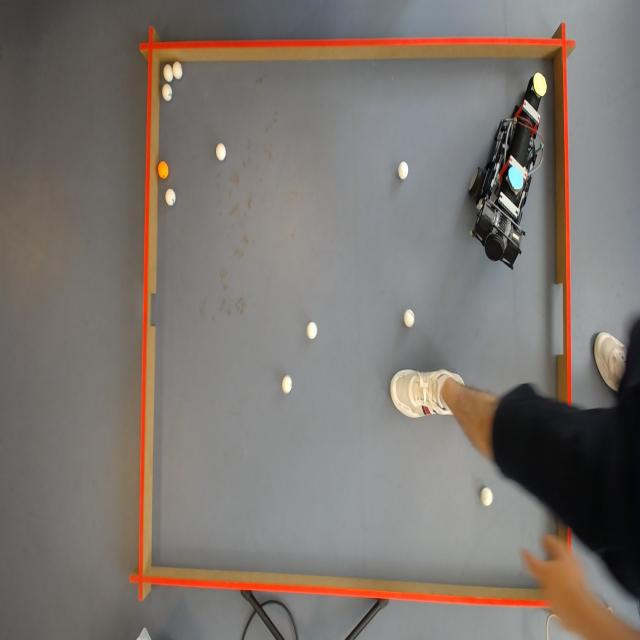orange: (158, 160, 170, 179)
robot: (472, 59, 542, 273)
robot-front: (532, 70, 548, 98)
robot-rear: (508, 166, 524, 191)
white: (398, 160, 411, 181), (481, 489, 494, 508), (306, 323, 318, 340), (404, 310, 416, 327), (173, 60, 183, 80), (280, 376, 291, 394), (217, 143, 228, 161), (161, 86, 173, 102), (165, 189, 176, 206), (163, 64, 173, 82)
